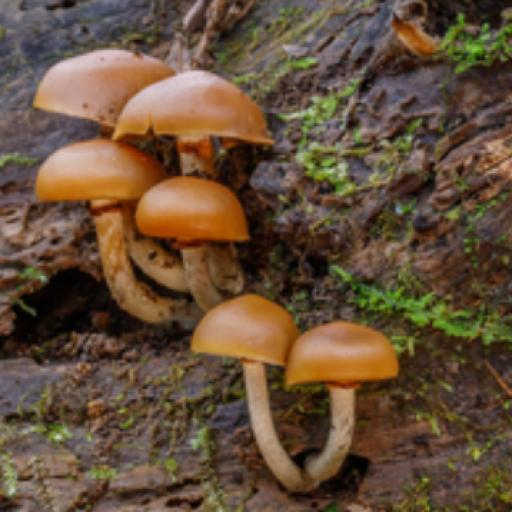Funeral Bell: (30, 41, 279, 321), (189, 291, 416, 501)
